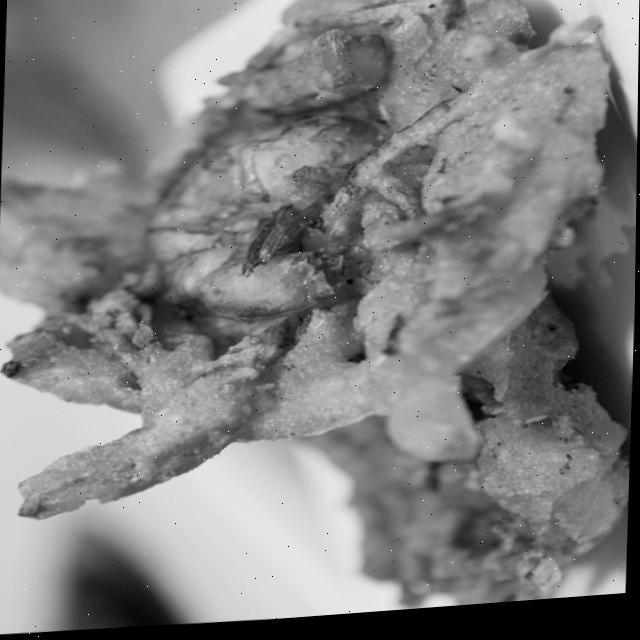炸货点心: (0, 0, 631, 640)
熟制海鲜: (0, 0, 631, 640)
